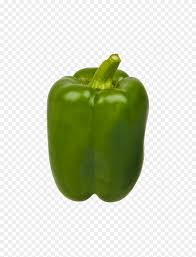fruit_pepper: (45, 53, 150, 204)
